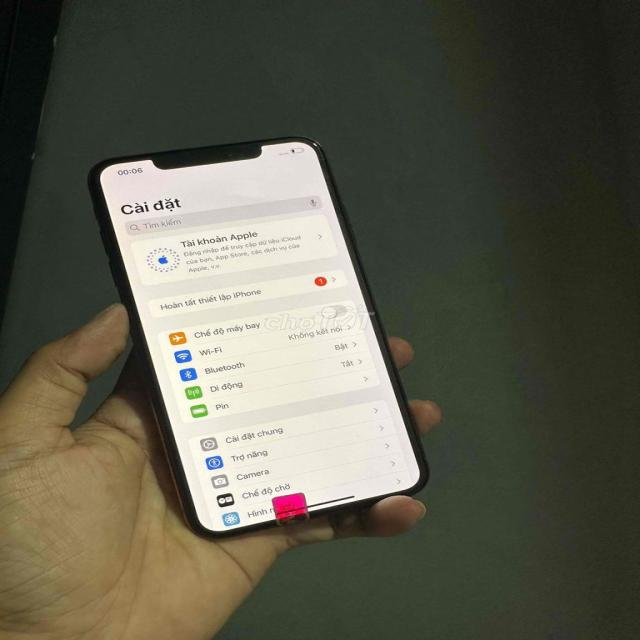gen_x_xs: (57, 126, 448, 548)
